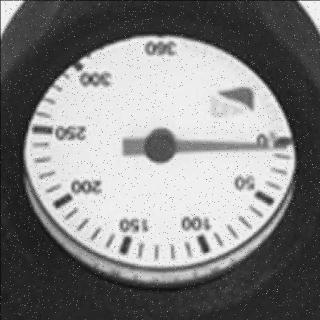gauge: (0, 0, 320, 320), (138, 15, 174, 65), (257, 120, 296, 164), (143, 127, 177, 165), (273, 137, 291, 153)
